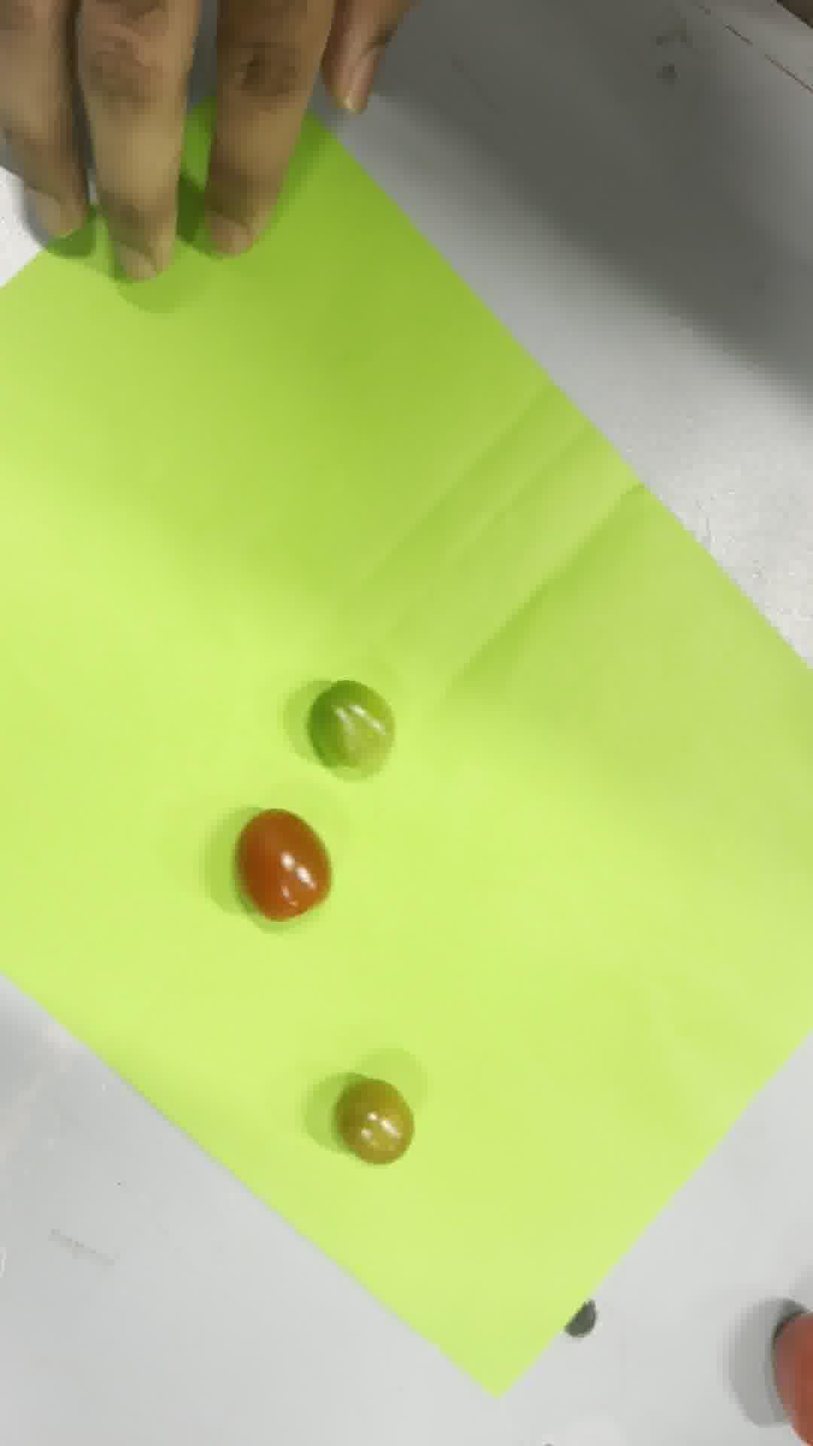green_cherry_tomato: (307, 679, 395, 776)
red_cherry_tomato: (236, 810, 331, 921)
yellow_cherry_tomato: (336, 1078, 413, 1164)
